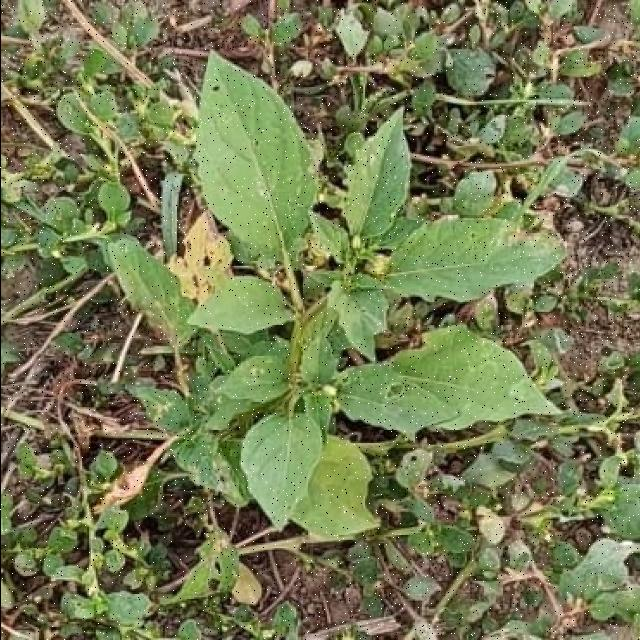weed: (103, 54, 562, 540)
